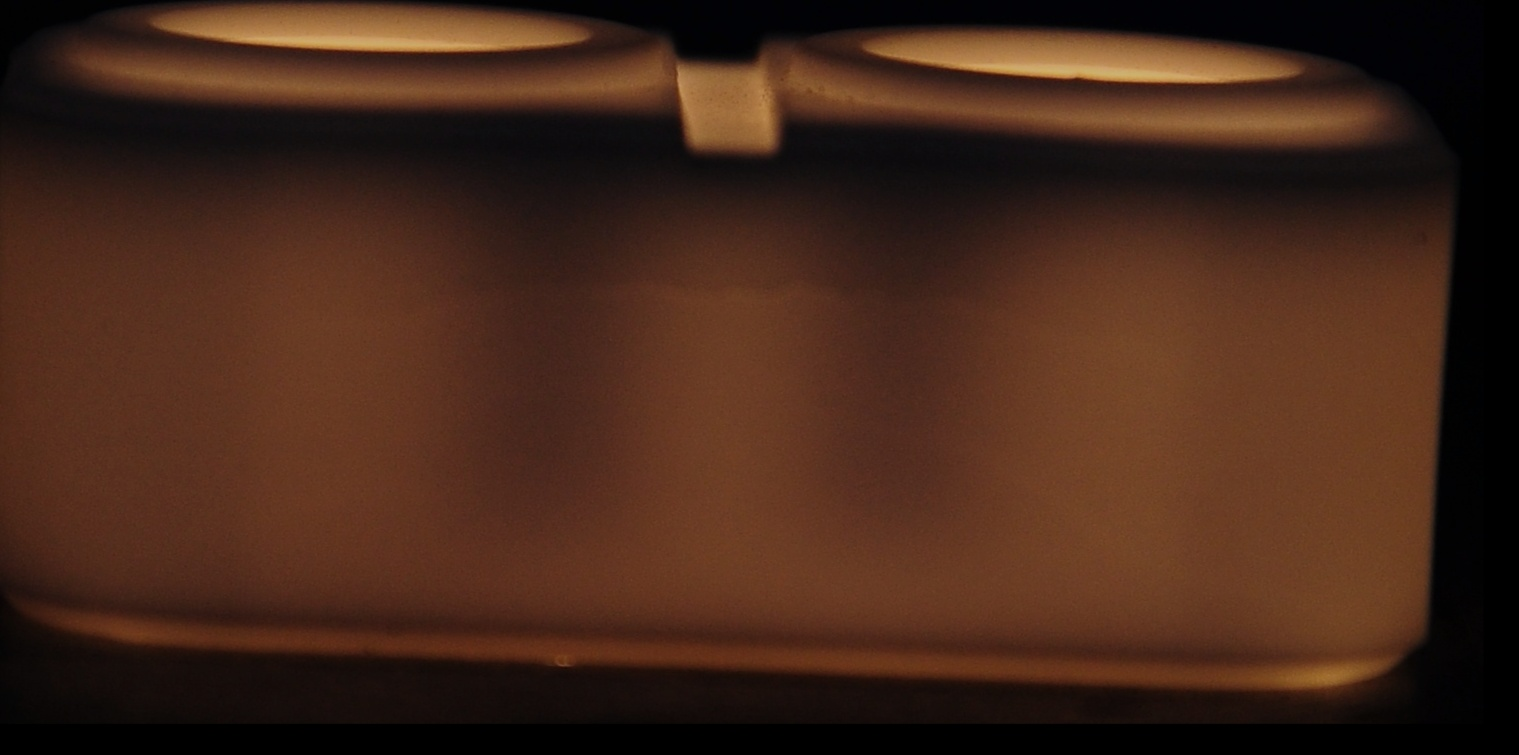flaw: (378, 261, 1098, 361)
